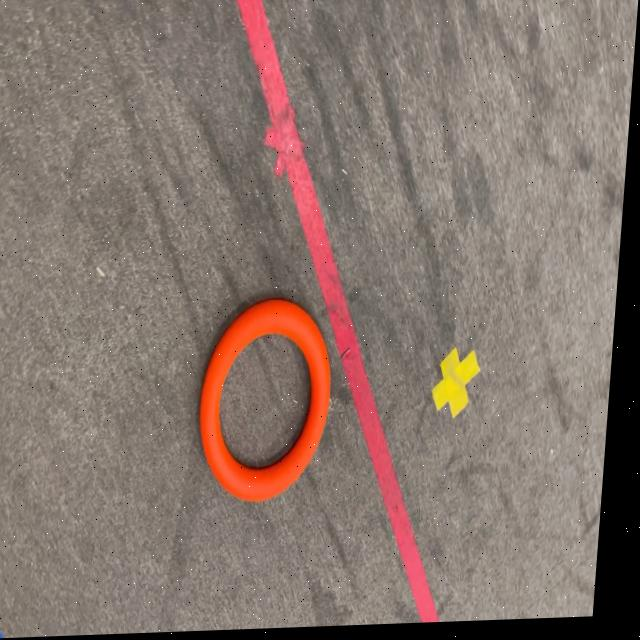note: (202, 299, 343, 503)
